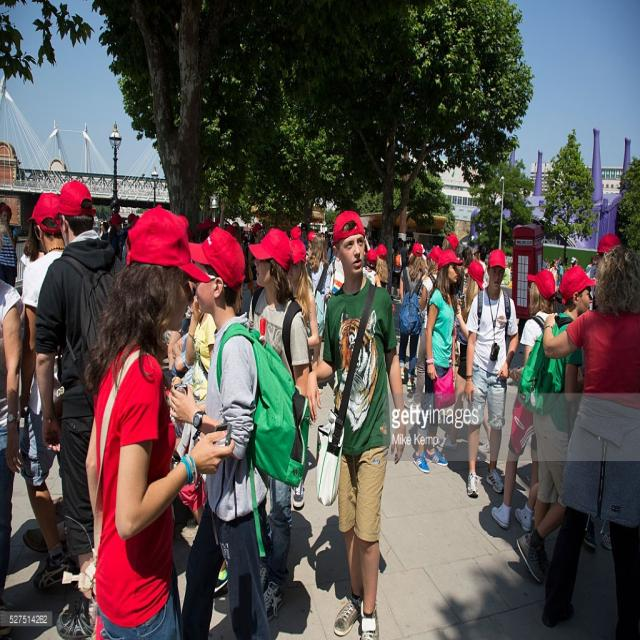body: (83, 200, 237, 639), (303, 205, 410, 639), (31, 173, 128, 639), (174, 226, 277, 640), (539, 238, 639, 639), (514, 260, 600, 592), (18, 190, 84, 592), (246, 229, 311, 624), (166, 281, 228, 600), (490, 268, 562, 534), (458, 246, 520, 502), (410, 245, 464, 477), (436, 259, 492, 456), (0, 273, 28, 639), (286, 237, 322, 508), (403, 244, 444, 412), (542, 231, 620, 297), (302, 221, 342, 341), (395, 241, 424, 393), (362, 231, 404, 300), (186, 218, 302, 240), (98, 213, 140, 264), (0, 203, 19, 288), (19, 216, 45, 272), (461, 239, 491, 284), (238, 240, 256, 309), (501, 260, 514, 292), (442, 230, 459, 254), (401, 237, 415, 266), (422, 239, 432, 268), (0, 199, 6, 221)
